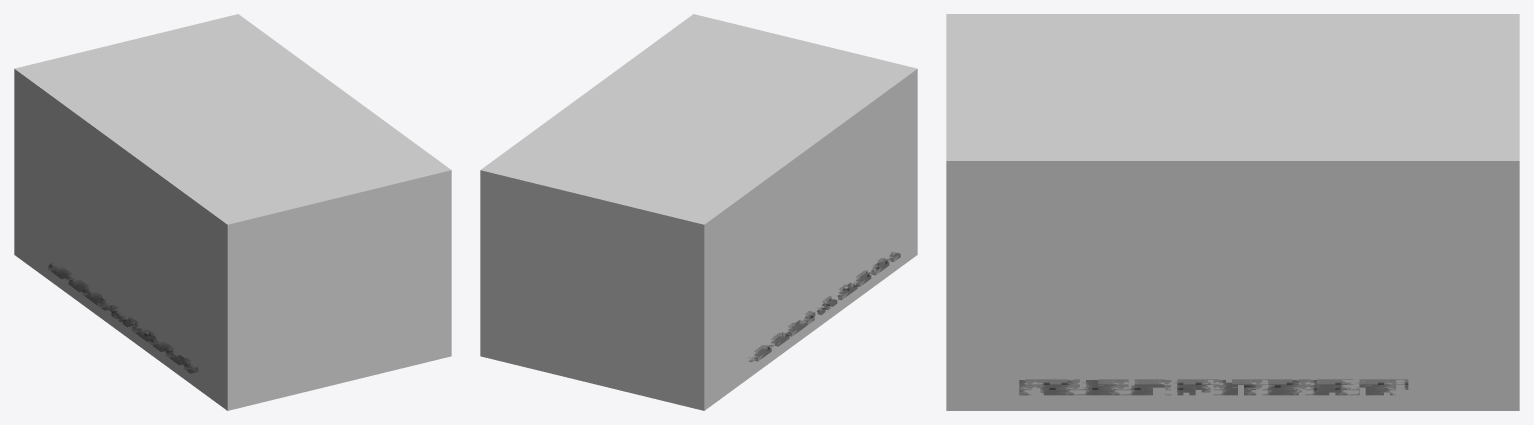
3 renders of one model, left to right at view 1: azimuth 30°, elevation 25°; view 2: azimuth 150°, elevation 25°; view 3: azimuth 270°, elevation 25°, orthographic. The views are drawn at different scales.
Parts seen in each view (by area): view 1: Cube, Plane.001; view 2: Cube, Plane.001; view 3: Cube, Plane.001.
Part boxes in pixels (x1,y1,x2,y2): Cube: (14, 14, 451, 410); Plane.001: (48, 263, 197, 373); Cube: (480, 14, 917, 410); Plane.001: (749, 252, 900, 361); Cube: (946, 14, 1519, 410); Plane.001: (1019, 379, 1408, 394).
Size of the model in its own units: 8.54 by 6.06 by 12.59.
2 materials, 1 textured.
